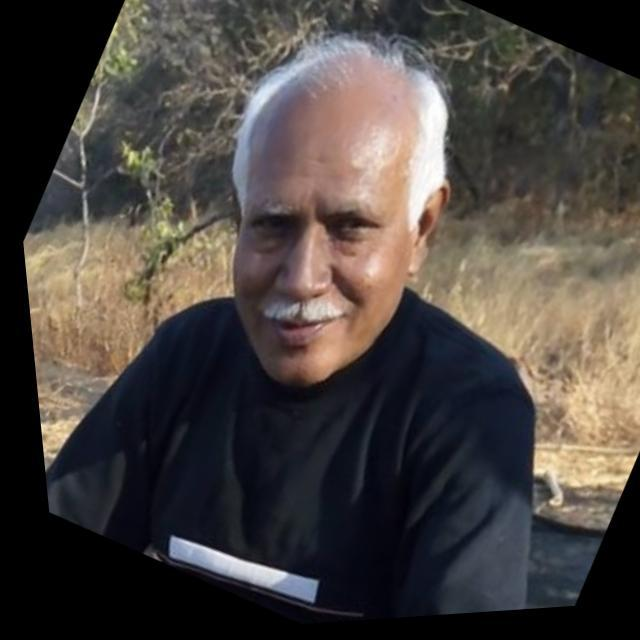Nonhelmet: (209, 30, 454, 393)
